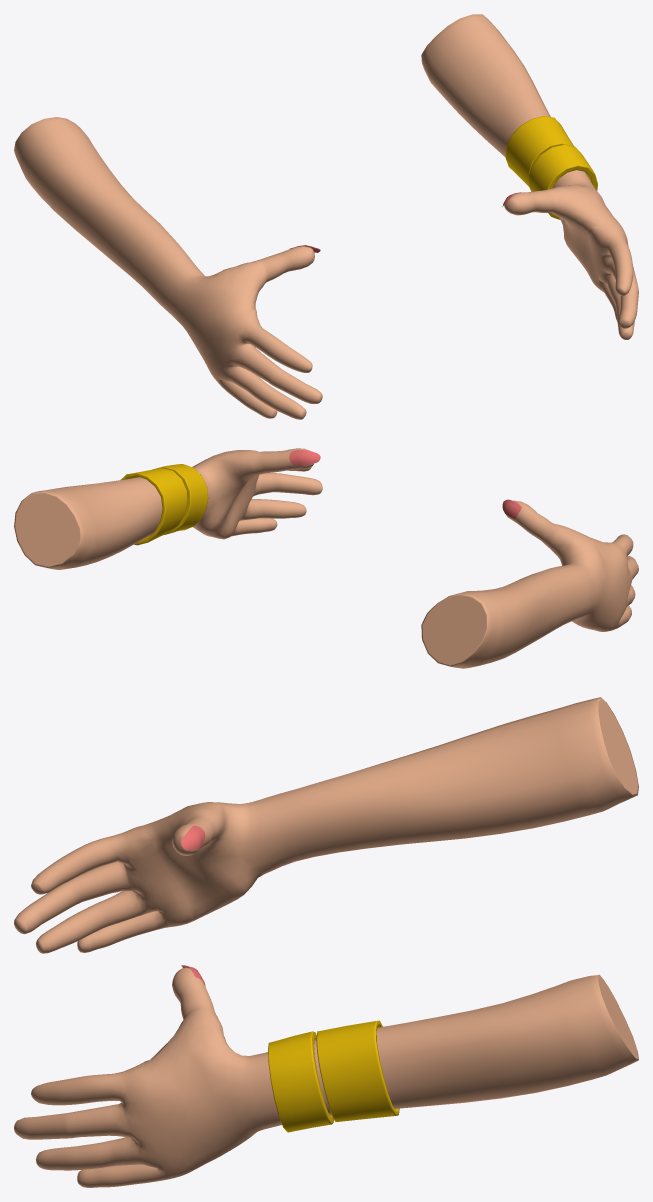
File: Hands 1.fbx
The picture shows the model from 3 angles, top to bottom: view 1: azimuth 30°, elevation 25°; view 2: azimuth 150°, elevation 25°; view 3: azimuth 270°, elevation 25°; orthographic projection. The views are drawn at different scales.
Visible parts, largest first — view 1: polySurface5; view 2: polySurface5; view 3: polySurface5.
Part boxes in pixels (x1,y1,x2,y2): polySurface5: [14, 14, 638, 419]; polySurface5: [14, 448, 638, 668]; polySurface5: [14, 697, 638, 1187].
Size of the model in its own units: 7.8 by 2.63 by 6.54.
